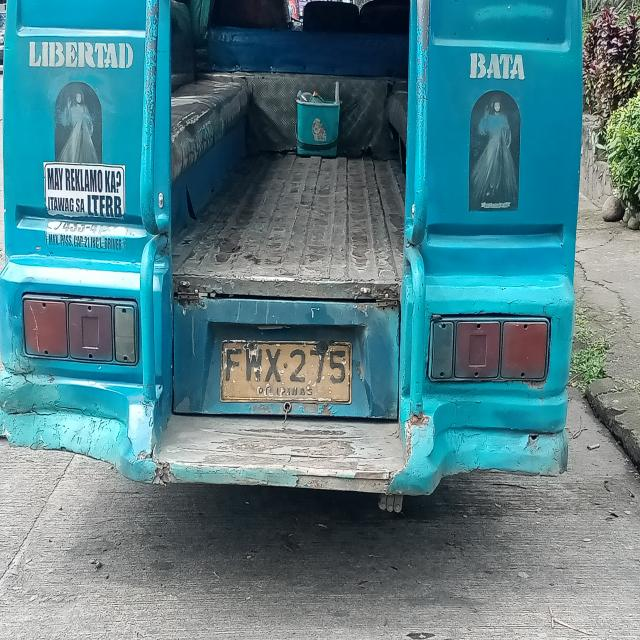plate: (218, 337, 355, 407)
